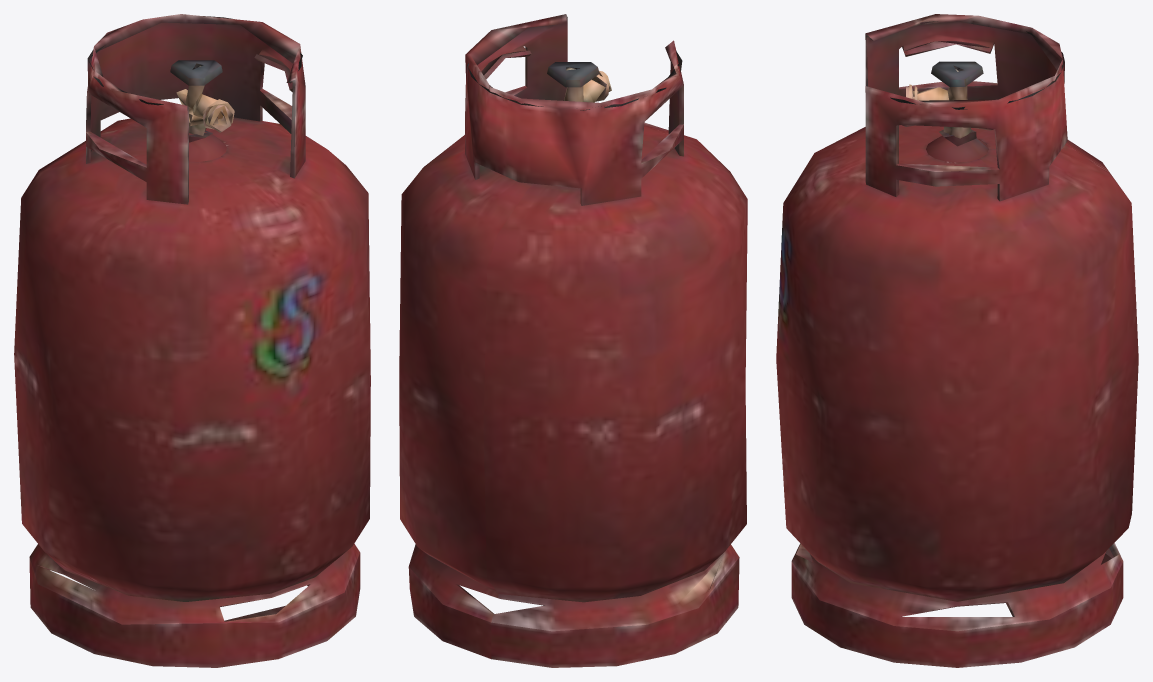
File: propane_tank.glb
3 renders of one model, left to right at view 1: azimuth 30°, elevation 25°; view 2: azimuth 150°, elevation 25°; view 3: azimuth 270°, elevation 25°, orthographic.
Parts seen in each view (by area): view 1: propane_tank; view 2: propane_tank; view 3: propane_tank.
Boxes of the visible parts, x1=… form: propane_tank: x1=14, y1=14, x2=370, y2=667; propane_tank: x1=399, y1=14, x2=747, y2=667; propane_tank: x1=776, y1=14, x2=1138, y2=667.
Bounding box in the file's own units: 0.3341 × 0.5534 × 0.3374.
Materials: 1 (1 with a texture image).
